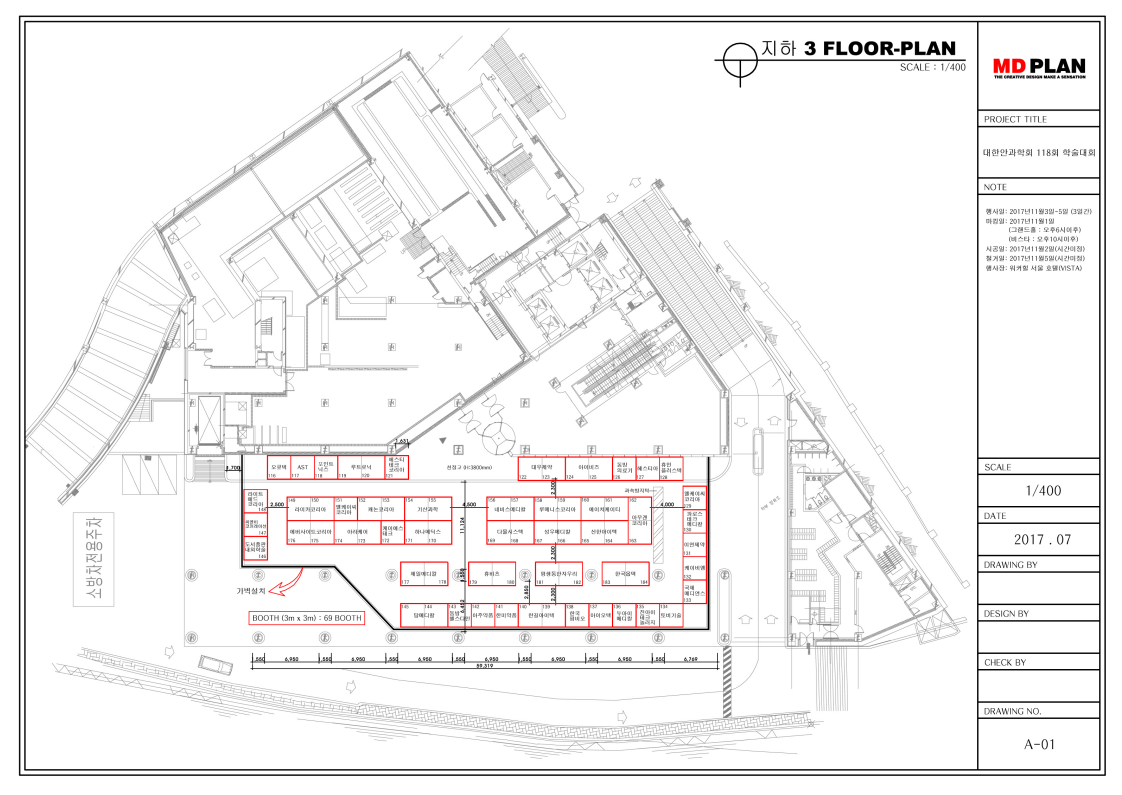booth: (626, 496, 650, 544), (602, 563, 650, 586), (533, 563, 581, 586), (467, 562, 515, 585), (399, 562, 447, 585), (518, 604, 566, 627), (400, 604, 448, 627), (533, 523, 581, 546), (581, 521, 629, 544), (579, 498, 627, 521), (531, 498, 579, 521), (484, 496, 532, 519), (486, 521, 534, 544), (404, 496, 452, 519), (403, 520, 451, 543), (356, 496, 404, 519), (331, 521, 379, 544), (284, 520, 332, 543), (285, 496, 333, 519), (336, 456, 384, 479), (516, 457, 564, 480), (565, 457, 613, 480), (469, 601, 495, 628), (492, 601, 518, 628), (564, 602, 590, 629), (586, 602, 612, 629), (609, 602, 635, 629), (633, 602, 659, 629), (658, 602, 684, 629), (681, 579, 707, 606), (681, 556, 707, 583), (682, 532, 708, 559), (681, 508, 707, 535), (681, 484, 707, 511), (657, 456, 683, 483), (634, 456, 660, 483), (611, 455, 637, 482), (243, 511, 267, 538), (243, 535, 267, 562), (266, 453, 290, 480), (289, 454, 313, 481), (311, 455, 335, 482), (384, 454, 408, 481), (332, 494, 356, 521), (378, 520, 402, 547), (447, 601, 471, 628), (245, 490, 267, 512)
boundary: (242, 456, 709, 631)
entrance: (420, 446, 507, 468)
exit: (418, 444, 505, 466)
